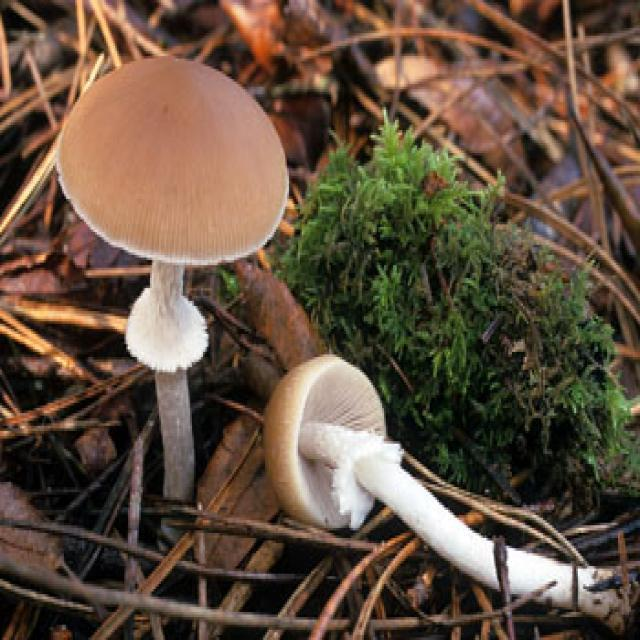Coprinus comatus: (58, 54, 286, 503), (266, 356, 630, 621)
